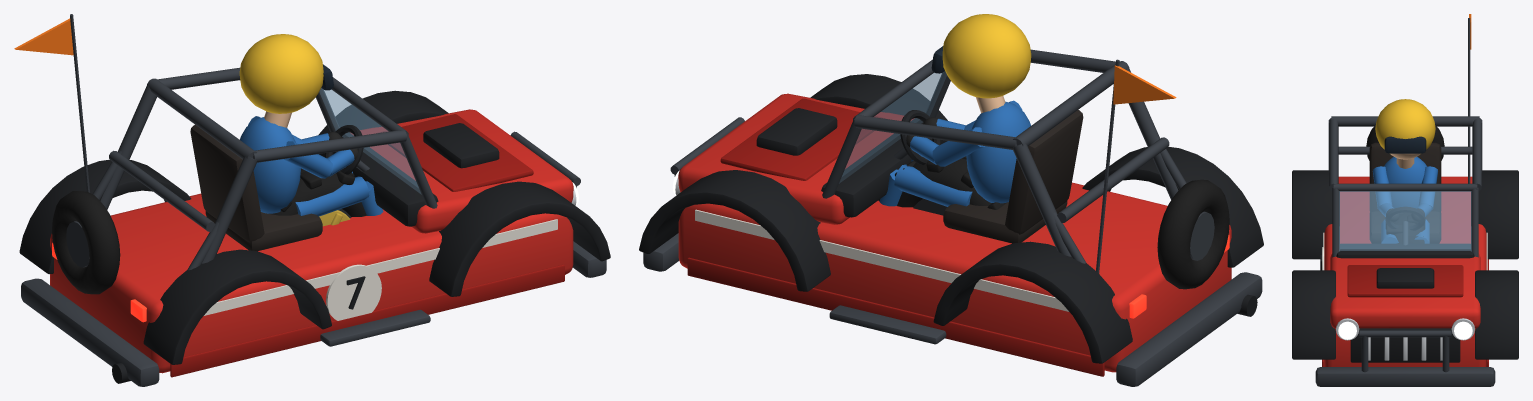
The model's file is car.glb.
The picture shows the model from 3 angles, left to right: view 1: azimuth 30°, elevation 25°; view 2: azimuth 150°, elevation 25°; view 3: azimuth 270°, elevation 25°; orthographic projection. The views are drawn at different scales.
Visible parts, largest first — view 1: CarBody, Wheel; view 2: CarBody, Wheel; view 3: CarBody, Wheel.
Boxes of the visible parts, x1,y1,x2,y2 form: CarBody: (14, 14, 610, 386); Wheel: (269, 168, 366, 226); CarBody: (639, 14, 1263, 386); Wheel: (878, 156, 1007, 215); CarBody: (1292, 14, 1518, 386); Wheel: (1385, 212, 1425, 243).
Bounding box in the file's own units: 3.61 × 2.11 × 1.96.
